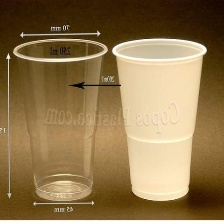glass: (8, 32, 109, 210), (110, 33, 210, 205)
